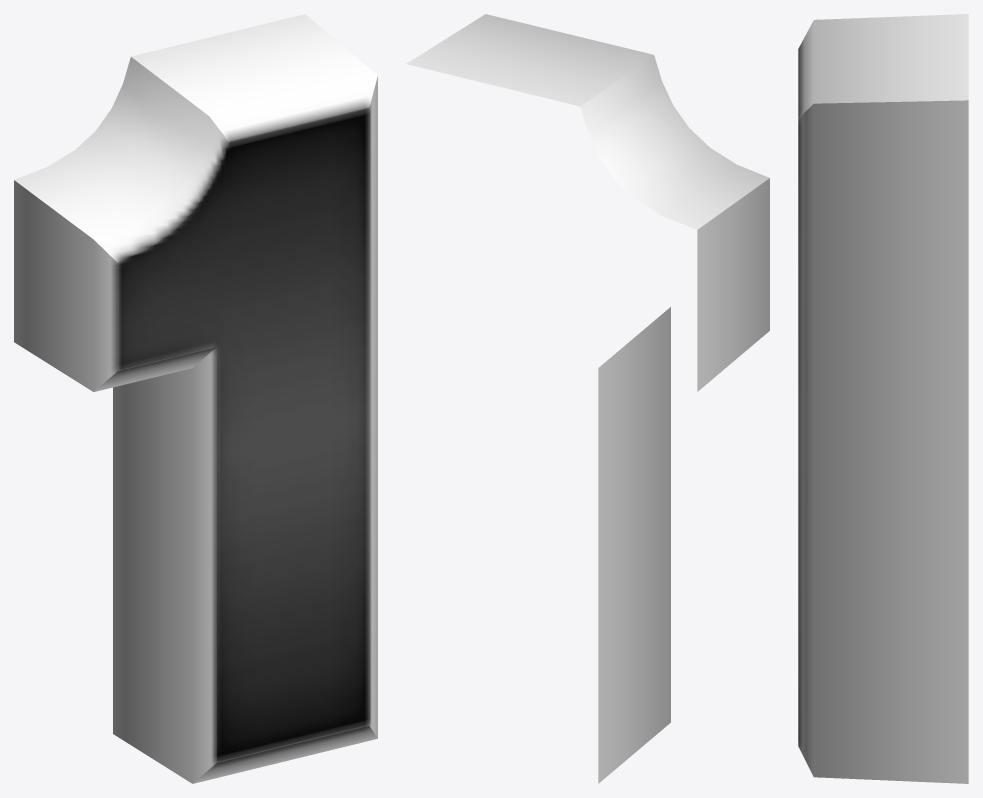
The model's file is bbl_score_model__score_1b.glb.
The picture shows the model from 3 angles, left to right: view 1: azimuth 30°, elevation 25°; view 2: azimuth 150°, elevation 25°; view 3: azimuth 270°, elevation 25°; orthographic projection.
Visible parts, largest first — view 1: polygon1, polygon0; view 2: polygon0; view 3: polygon0.
Boxes of the visible parts, x1=… form: polygon1: x1=117, y1=107, x2=369, y2=762; polygon0: x1=14, y1=14, x2=377, y2=783; polygon0: x1=406, y1=14, x2=769, y2=783; polygon0: x1=798, y1=14, x2=968, y2=783.
Bounding box in the file's own units: 2.21 × 4.88 × 1.1.
2 materials, 2 textured.
